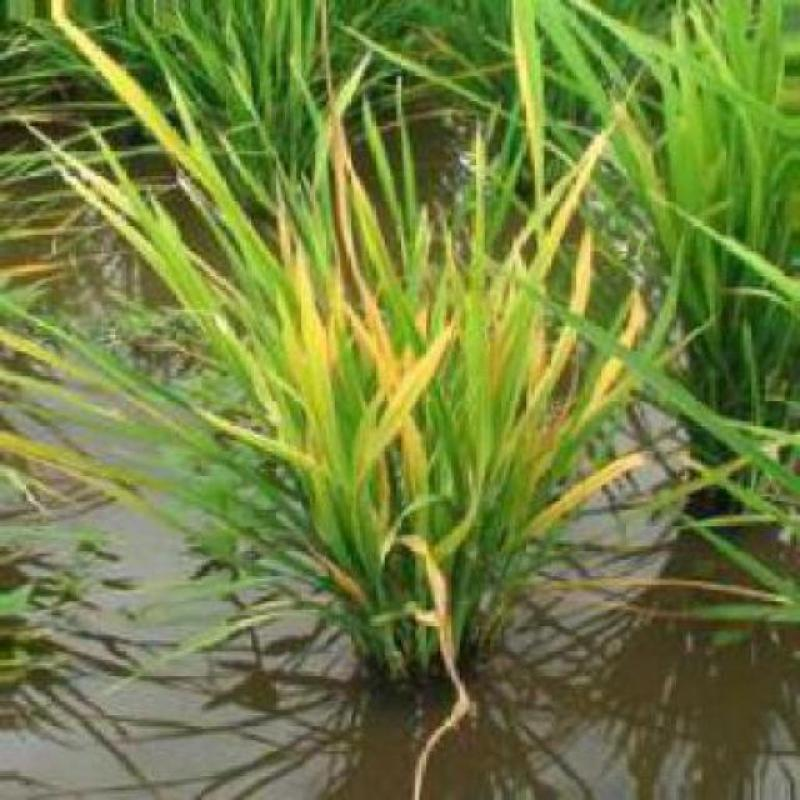Rice Tungro: (31, 118, 254, 382), (492, 102, 616, 372), (35, 3, 215, 166), (379, 538, 481, 798), (302, 8, 401, 262), (360, 316, 461, 492), (502, 438, 652, 552), (271, 163, 335, 403), (172, 394, 338, 478), (528, 238, 592, 443), (574, 286, 648, 460)
